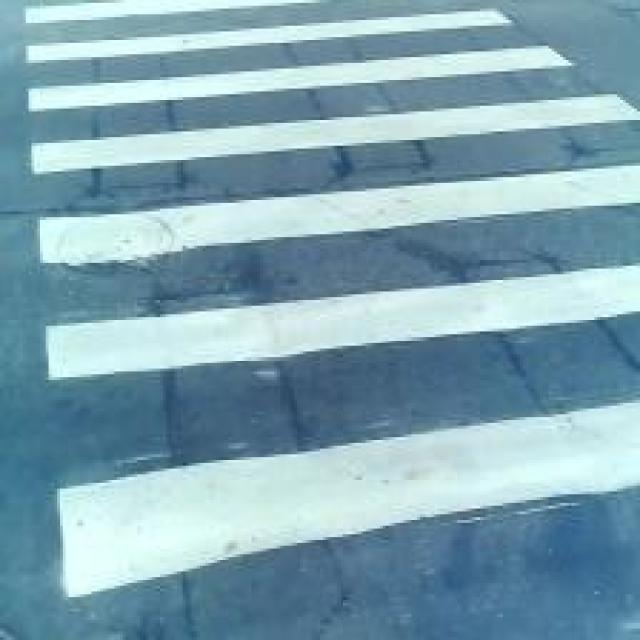zebra: (39, 37, 612, 609)
